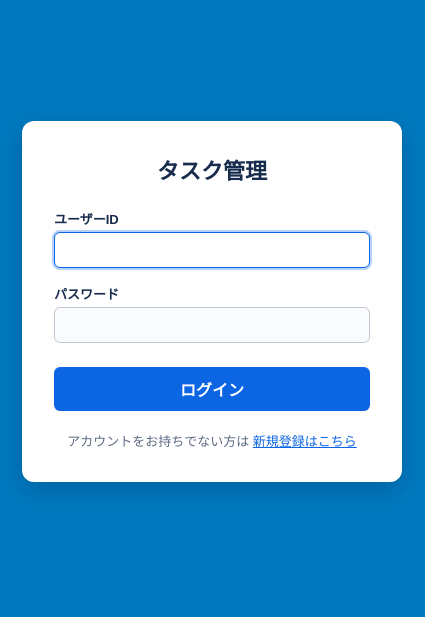
Test case: ブラウザの戻る（05 画面設計書 3章） › 「ログインはこちら」も戻ると同じ動きにし、履歴を積み増さない
The width and height of the screenshot is (425, 617).
Step 1. Click the button "新規登録はこちら" → (305, 440), box [253, 430, 357, 450]
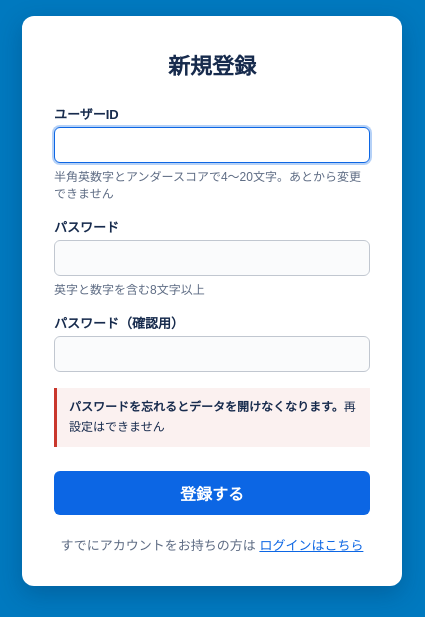
Step 2. Click the button "ログインはこちら" → (311, 544), box [259, 535, 363, 554]
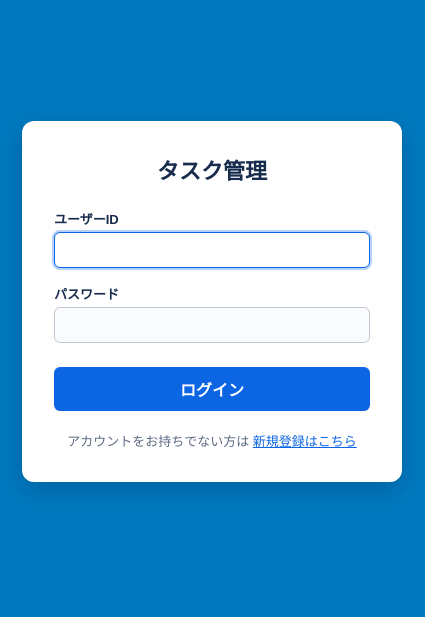
Check: the button "ログイン" is shown, box [54, 366, 370, 410]
